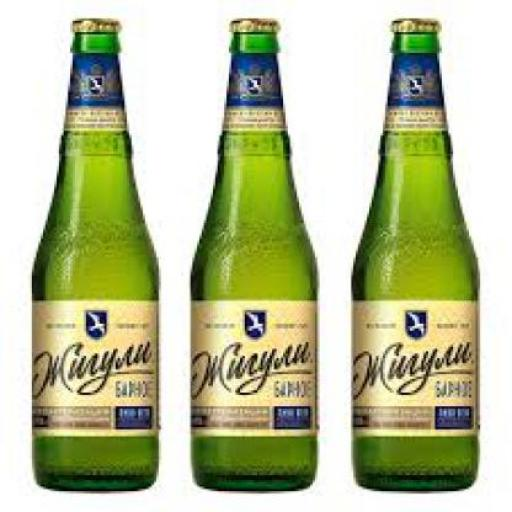glass: (188, 30, 315, 489), (30, 32, 156, 491), (352, 32, 478, 489)
metal: (387, 16, 438, 30), (226, 14, 277, 28), (70, 15, 116, 28)
